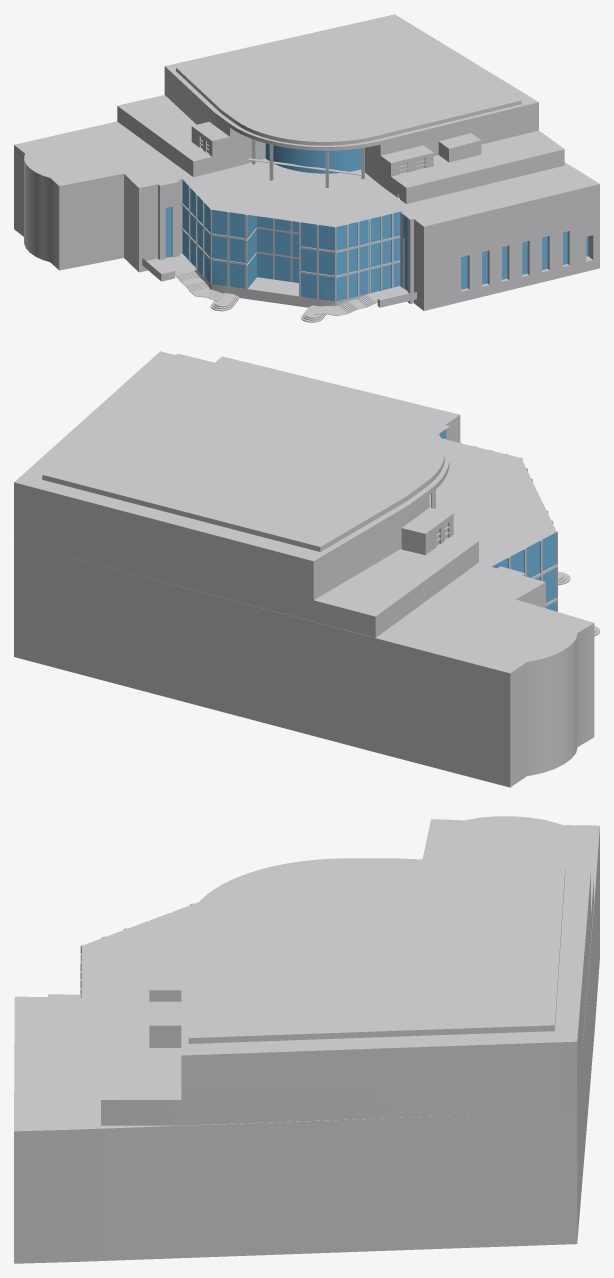
Rendered from new_york_pavillon_francais.glb.
3 views of the same model, one above another, from view 1: azimuth 30°, elevation 25°; view 2: azimuth 150°, elevation 25°; view 3: azimuth 270°, elevation 25° (orthographic). The views are drawn at different scales.
Visible parts, largest first — view 1: pavillon_francais; view 2: pavillon_francais; view 3: pavillon_francais.
Part boxes in pixels (x1,y1,x2,y2): pavillon_francais: [14, 14, 599, 322]; pavillon_francais: [14, 351, 599, 787]; pavillon_francais: [14, 816, 599, 1263].
Bounding box in the file's own units: 0.5797 × 0.1786 × 0.4555.
